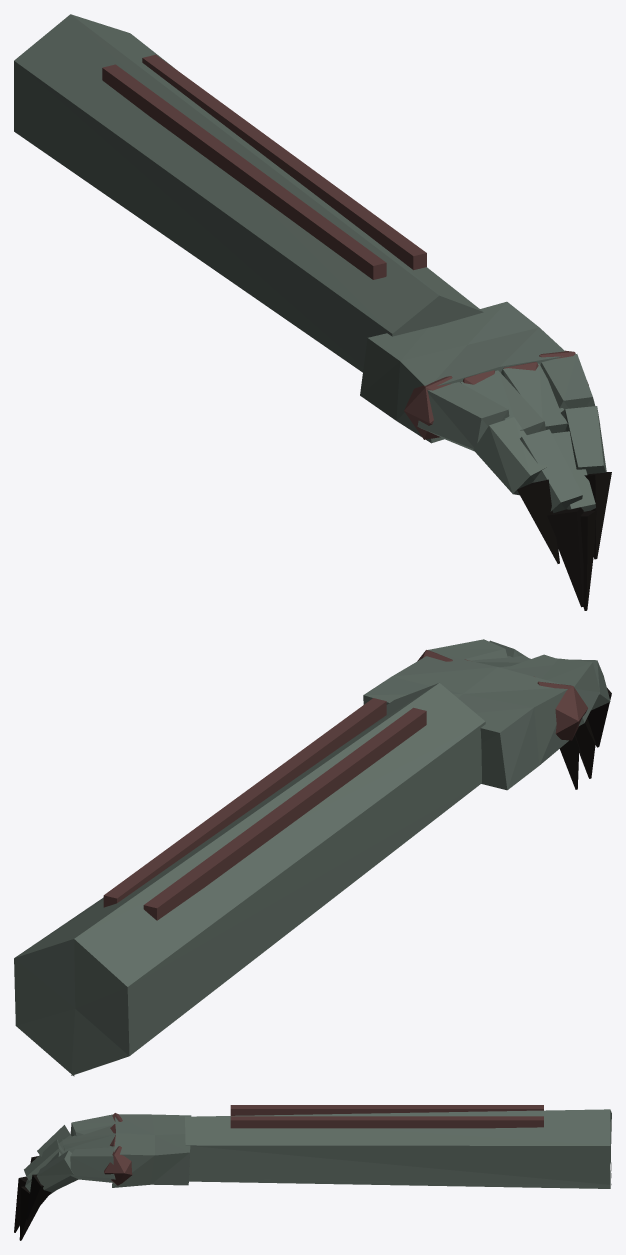
Rendered from claws.glb.
3 renders of one model, top to bottom at view 1: azimuth 30°, elevation 25°; view 2: azimuth 150°, elevation 25°; view 3: azimuth 270°, elevation 25°, orthographic. The views are drawn at different scales.
Visible parts, largest first — view 1: forearm, claws, talon_0, talon_0_mid, talon_1_mid, talon_2, talon_3, talon_3_mid, talon_1, talon_1_tip, talon_0_tip, talon_2_mid (+2 smaller); view 2: forearm, claws, talon_0, talon_3, talon_1, talon_1_tip, talon_0_tip, talon_2_tip; view 3: forearm, claws, talon_3, talon_3_mid, talon_0, talon_1_mid, talon_1, talon_3_tip, talon_2_tip, talon_2, talon_0_mid, talon_1_tip.
Part boxes in pixels (bbox=[...]): forearm: bbox=[14, 14, 483, 372]; claws: bbox=[360, 301, 564, 443]; talon_0: bbox=[404, 376, 509, 450]; talon_0_mid: bbox=[473, 417, 548, 495]; talon_1_mid: bbox=[520, 429, 582, 512]; talon_2: bbox=[501, 362, 567, 433]; talon_3: bbox=[539, 350, 600, 424]; talon_3_mid: bbox=[561, 406, 606, 474]; talon_1: bbox=[460, 370, 545, 434]; talon_1_tip: bbox=[547, 507, 583, 607]; talon_0_tip: bbox=[517, 479, 559, 563]; talon_2_mid: bbox=[552, 431, 595, 511]; forearm: bbox=[14, 683, 485, 1076]; claws: bbox=[363, 654, 568, 790]; talon_0: bbox=[537, 658, 599, 740]; talon_3: bbox=[417, 639, 507, 661]; talon_1: bbox=[504, 654, 557, 678]; talon_1_tip: bbox=[575, 723, 595, 778]; talon_0_tip: bbox=[585, 688, 611, 747]; talon_2_tip: bbox=[560, 735, 579, 789]; forearm: bbox=[185, 1105, 611, 1188]; claws: bbox=[112, 1114, 191, 1187]; talon_3: bbox=[70, 1146, 132, 1185]; talon_3_mid: bbox=[37, 1150, 78, 1192]; talon_0: bbox=[70, 1113, 122, 1136]; talon_1_mid: bbox=[24, 1139, 63, 1180]; talon_1: bbox=[62, 1124, 115, 1150]; talon_3_tip: bbox=[26, 1174, 51, 1220]; talon_2_tip: bbox=[19, 1186, 39, 1240]; talon_2: bbox=[63, 1134, 115, 1154]; talon_0_mid: bbox=[37, 1125, 72, 1156]; talon_1_tip: bbox=[14, 1176, 27, 1232].
Bounding box in the file's own units: 0.2621 × 0.3201 × 1.34.
